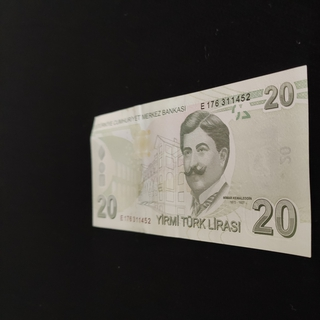20TLBack: (90, 64, 312, 257)
